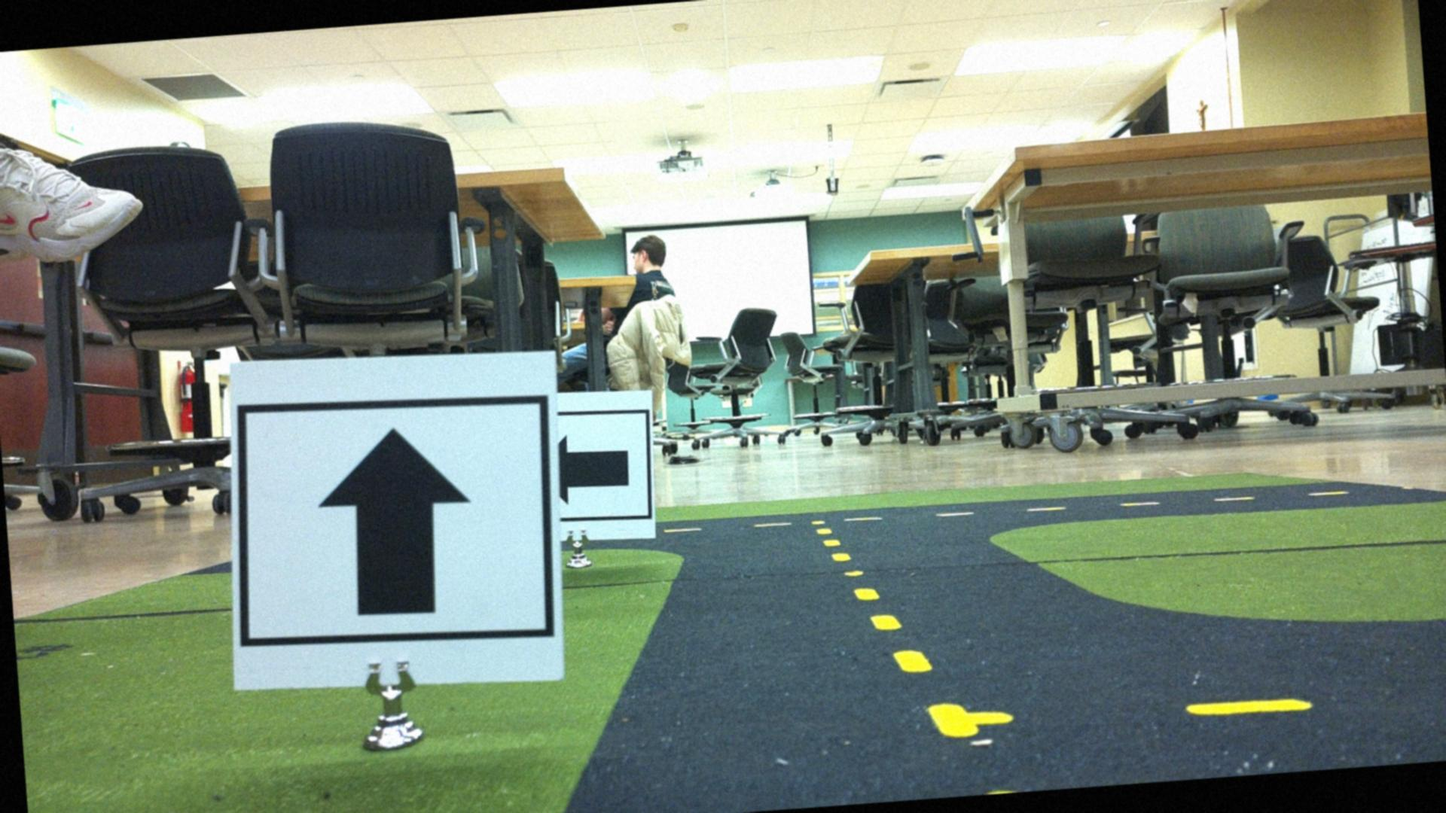gostraight: (235, 355, 560, 720)
yellowline: (810, 507, 975, 753)
